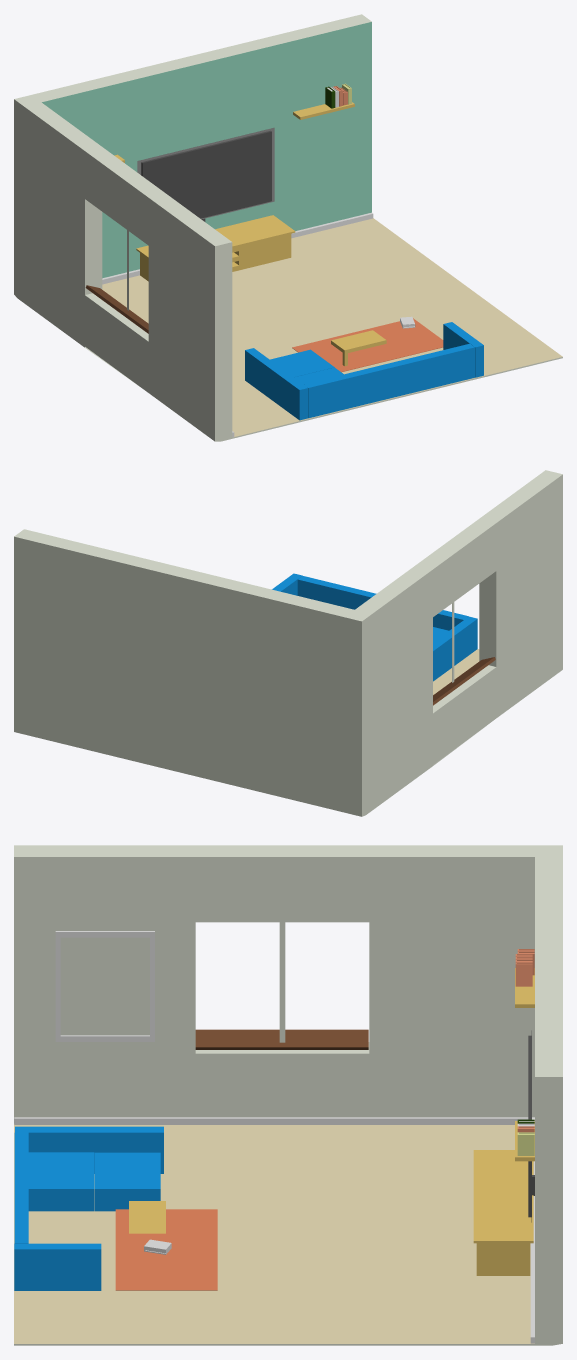
The model's file is low_poly_course_1.glb.
The picture shows the model from 3 angles, top to bottom: view 1: azimuth 30°, elevation 25°; view 2: azimuth 150°, elevation 25°; view 3: azimuth 270°, elevation 25°; orthographic projection. The views are drawn at different scales.
Parts seen in each view (by area): view 1: Cube, Cube.008, Cube.004, Cube.002, Cube.009, Cube.005, Cube.007, Cube.003, Cube.001, Cube.010, Cube.038; view 2: Cube, Cube.004, Cube.005, Cube.038; view 3: Cube, Cube.002, Cube.009, Cube.010, Cube.003, Cube.006, Cube.005, Cube.007, Cube.038, Cube.037, Cube.004, Cube.001.
Boxes of the visible parts, x1,y1,x2,y2 form: Cube: (14, 14, 562, 441); Cube.008: (137, 127, 274, 219); Cube.004: (304, 343, 474, 418); Cube.002: (292, 318, 443, 372); Cube.009: (136, 215, 295, 281); Cube.005: (245, 348, 308, 420); Cube.007: (270, 349, 334, 377); Cube.003: (443, 322, 483, 377); Cube.001: (331, 330, 386, 366); Cube.010: (102, 212, 373, 437); Cube.038: (85, 285, 148, 333); Cube: (14, 470, 562, 816); Cube.004: (297, 576, 468, 630); Cube.005: (433, 616, 477, 681); Cube.038: (433, 657, 495, 705); Cube: (14, 845, 562, 1345); Cube.002: (115, 1209, 217, 1290); Cube.009: (473, 1150, 533, 1275); Cube.010: (14, 1117, 534, 1343); Cube.003: (14, 1243, 101, 1290); Cube.006: (28, 1152, 94, 1211); Cube.005: (15, 1126, 163, 1173); Cube.007: (94, 1152, 160, 1211); Cube.038: (195, 1029, 368, 1049); Cube.037: (55, 931, 154, 1041); Cube.004: (14, 1132, 28, 1243); Cube.001: (129, 1201, 165, 1233).
Size of the model in its own units: 6.1 by 3.3 by 6.11.
